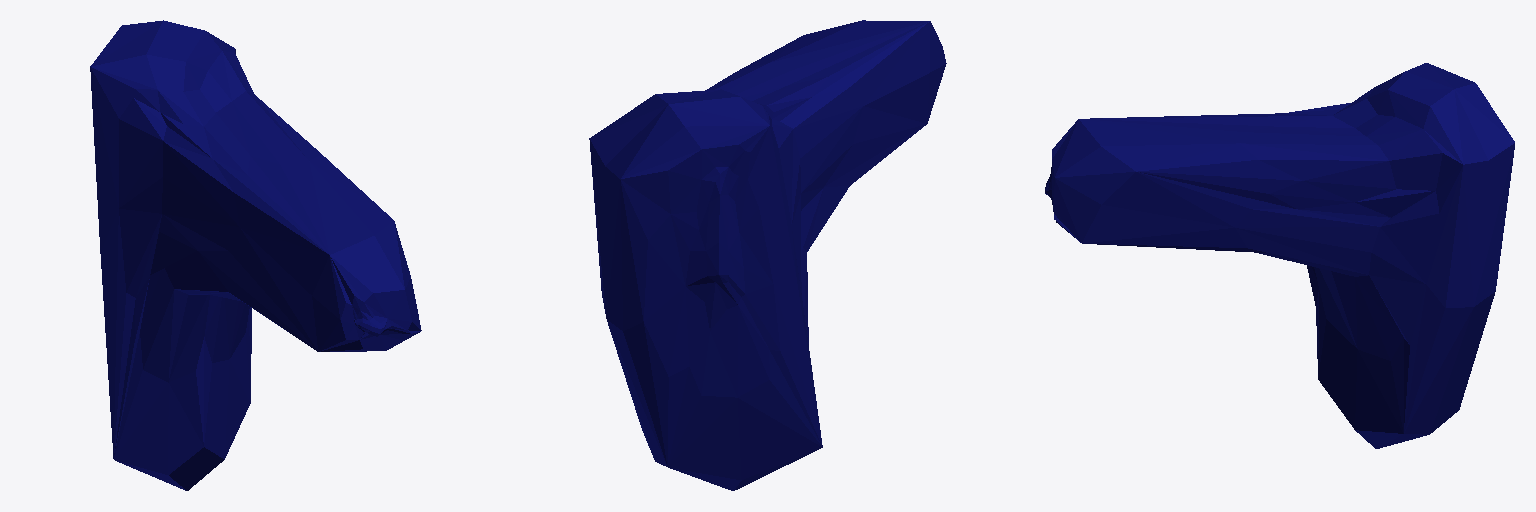
URDF robot description (blob883):

<robot name="blob883">
  <link name="random_obj_883">
    <contact>
      <lateral_friction value="1.0"/>
      <rolling_friction value="0.0"/>
      <inertia_scaling value="3.0"/>
      <contact_cfm value="0.0"/>
      <contact_erp value="1.0"/>
    </contact>
    <inertial>
      <origin rpy="0 0 0" xyz="0 0 0"/>
      <mass value="0.0851"/>
      <inertia ixx="1" ixy="0" ixz="0" iyy="1" iyz="0" izz="0"/>
    </inertial>
    <visual>
      <origin rpy="0 0 0" xyz="0 0 0"/>
      <geometry>
        <mesh filename="883.obj" scale="0.0088 0.0088 0.0088"/>
      </geometry>
      <material name="blockmat">
        <color rgba="0.09 0.11 0.46 1"/>
      </material>
    </visual>
    <collision>
      <origin rpy="0 0 0" xyz="0 0 0"/>
      <geometry>
        <mesh filename="883_coll.obj" scale="0.0088 0.0088 0.0088"/>
      </geometry>
    </collision>
  </link>
</robot>

--- What the picture shows (computed from the rendered views, not written in the file) ---
The picture shows the robot from 3 angles, left to right: view 1: azimuth 30°, elevation 25°; view 2: azimuth 150°, elevation 25°; view 3: azimuth 270°, elevation 25°; orthographic projection.
Model blob883 with 1 links and 0 joints (none), rooted at random_obj_883, posed every joint at zero.
Visible links, largest first — view 1: random_obj_883; view 2: random_obj_883; view 3: random_obj_883.
Boxes of the visible links, x1=… form: random_obj_883: x1=90, y1=20, x2=421, y2=490; random_obj_883: x1=589, y1=20, x2=946, y2=490; random_obj_883: x1=1045, y1=63, x2=1514, y2=448.
Bounding box of the posed robot: 0.0459 × 0.1199 × 0.1038 m (x, y, z).
1 mesh visuals loaded from 1 distinct referenced files (1 OBJ).
